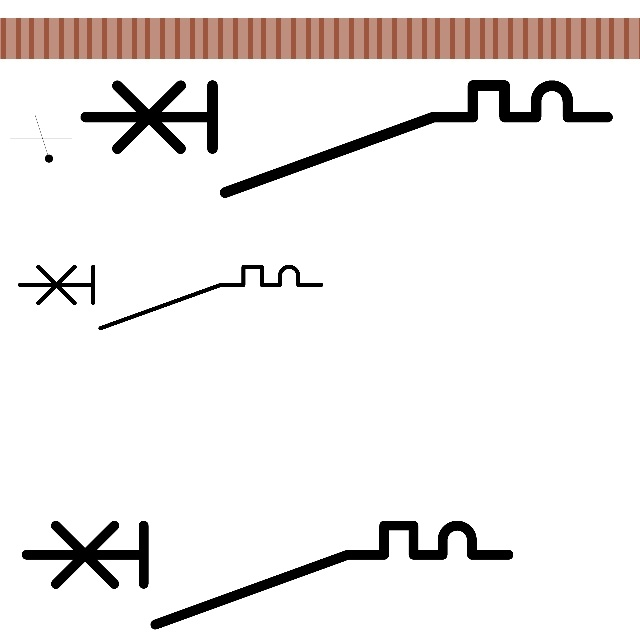interruptor_termomagnetico: (72, 72, 621, 206), (14, 513, 521, 637), (12, 259, 329, 336)
